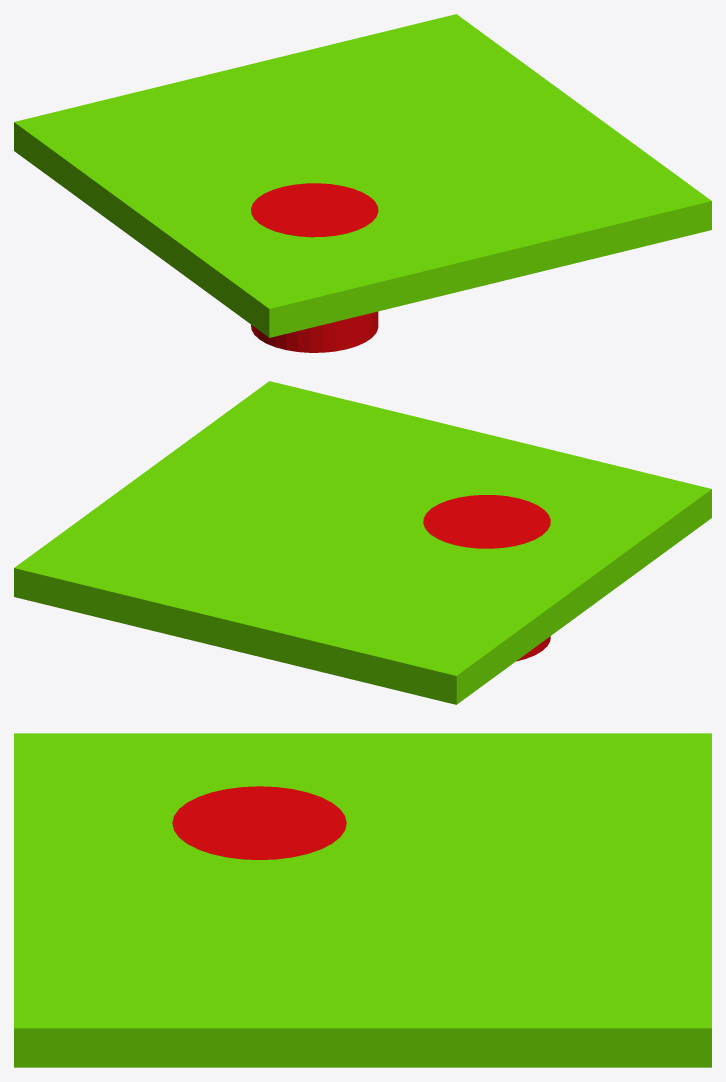
The model's file is BlockTypeHole-1.fbx.
3 views of the same model, one above another, from view 1: azimuth 30°, elevation 25°; view 2: azimuth 150°, elevation 25°; view 3: azimuth 270°, elevation 25° (orthographic). The views are drawn at different scales.
Visible parts, largest first — view 1: Cube, Cylinder; view 2: Cube, Cylinder; view 3: Cube, Cylinder.
Boxes of the visible parts, <box> form: Cube: <box>14,14,711,337</box>; Cylinder: <box>251,183,378,352</box>; Cube: <box>14,381,711,704</box>; Cylinder: <box>423,495,550,661</box>; Cube: <box>14,733,711,1067</box>; Cylinder: <box>172,786,346,859</box>.
Size of the model in its own units: 800 by 200 by 800.
